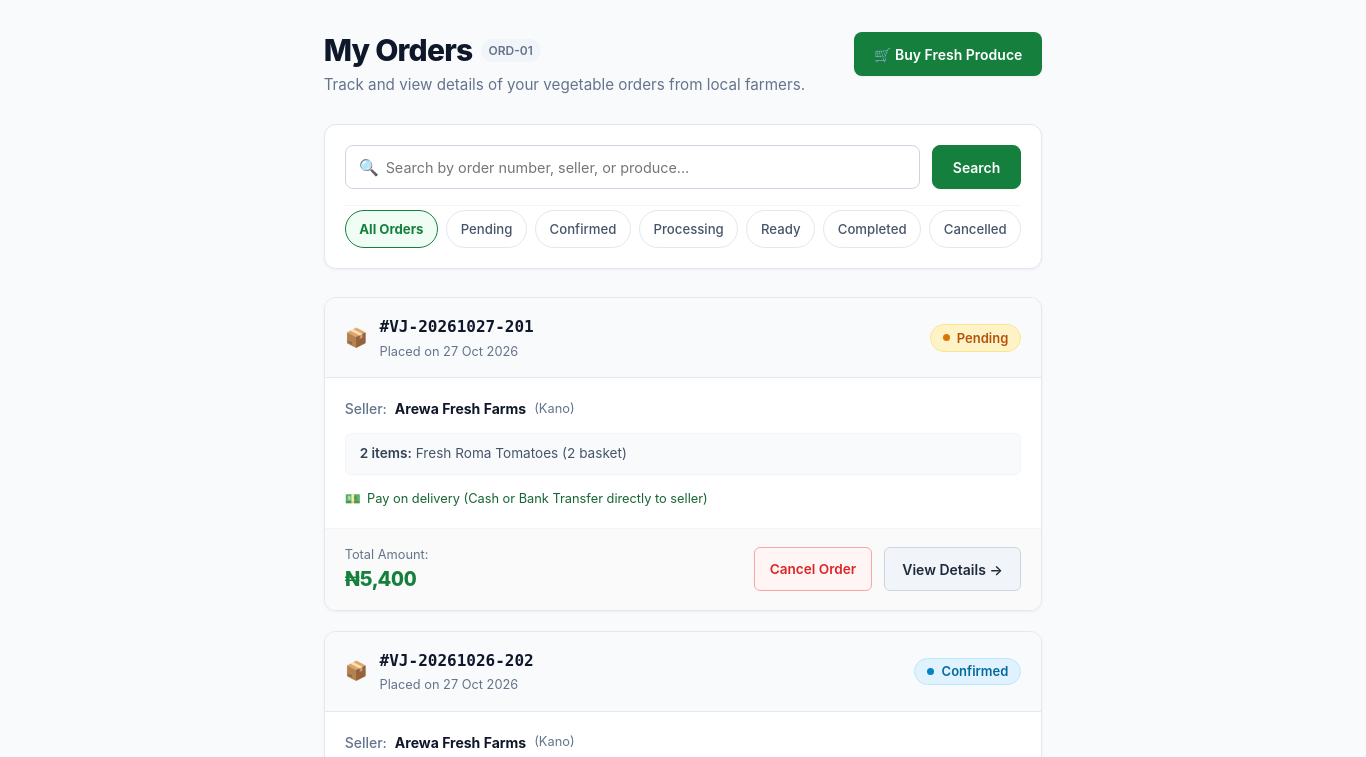
Test: FE-079: Cancel Pending Order (ORD-03) › 5. MyOrders List Page Cancellation (ORD-03) › cancels pending order from orders list and refreshes card status to cancelled
The image size is (1366, 757).
Click the button with test id "order-cancel-btn-201": point(813, 569) [754,547,872,591]
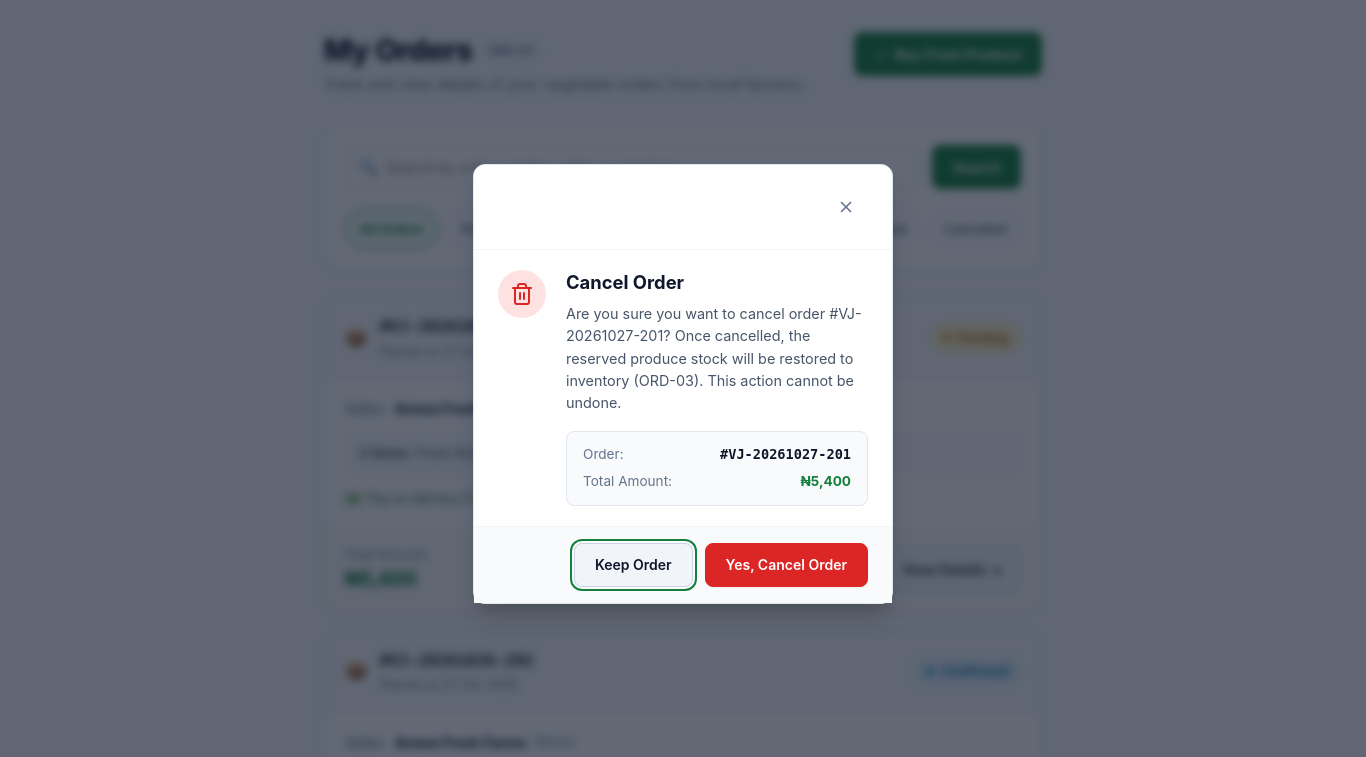
Expected: the dialog with test id "my-orders-cancel-dialog" is shown, [473,164,893,604]
Click the button with test id "my-orders-cancel-dialog-confirm-button": point(786, 565) [705,543,868,587]
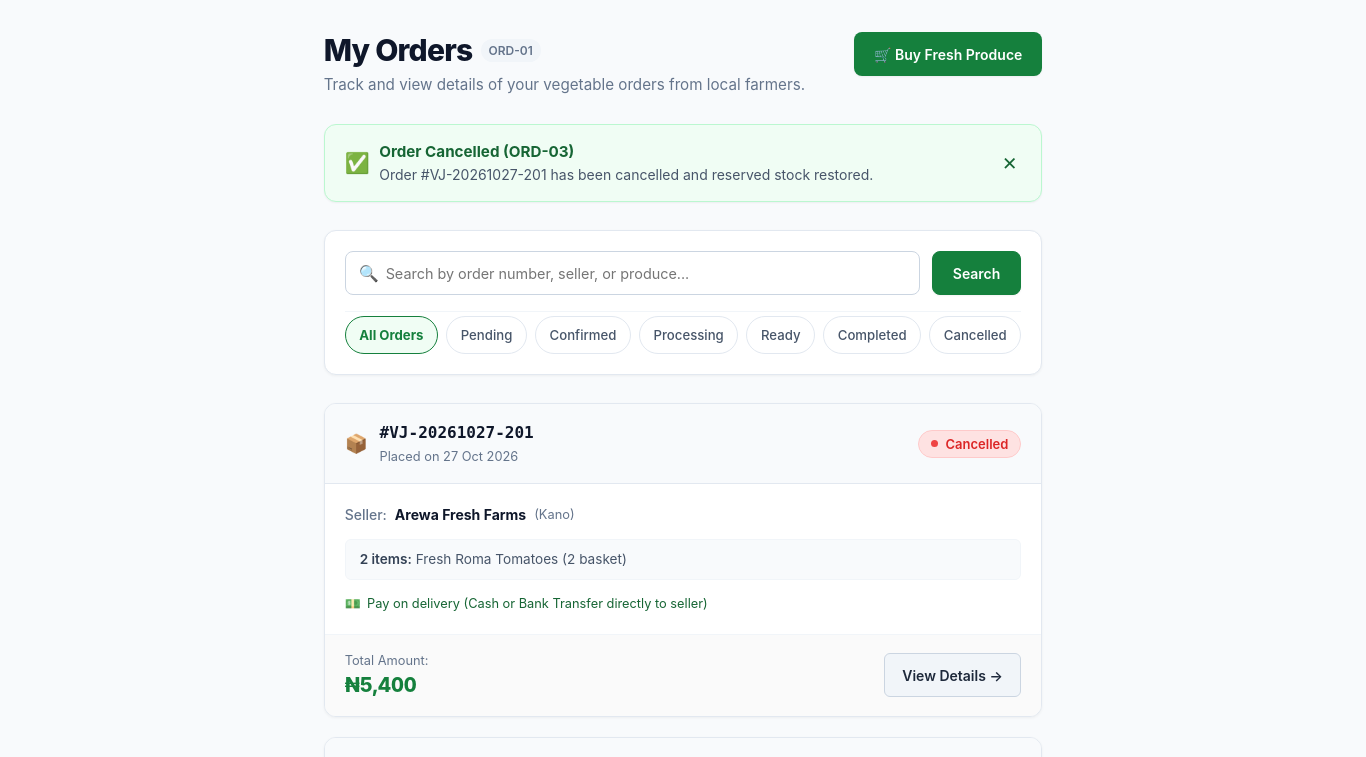
Expected: the button with test id "order-cancel-btn-201" is gone
Expected: the message with test id "my-orders-cancel-success" shows "Order #VJ-20261027-201 has been cancelled", [379,166,873,183]
